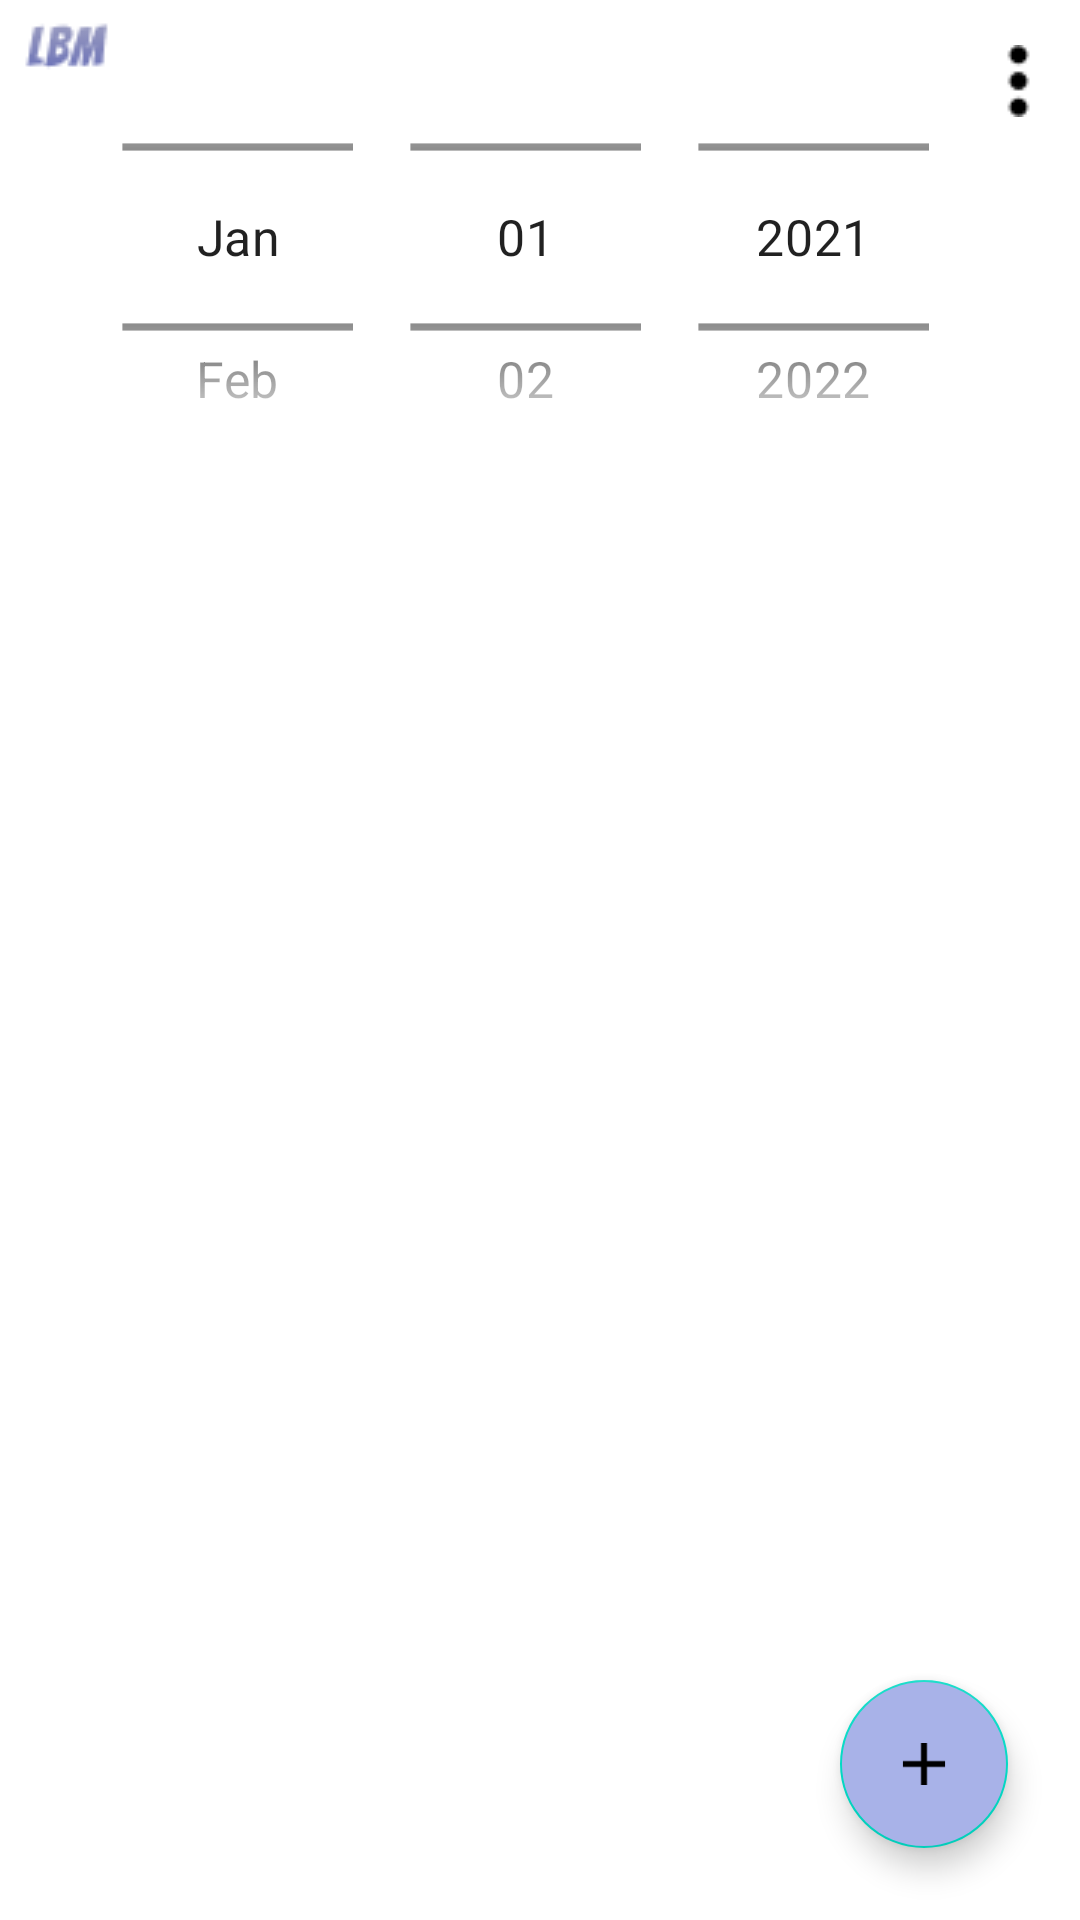

Icon bounding boxes for this 1080 × 1920 phone screenshot, format (x1=x1, y1=y1, x2=x2, y2=y2):
add: (x1=840, y1=1680, x2=1008, y2=1848)
dot: (x1=1007, y1=45, x2=1030, y2=117)
